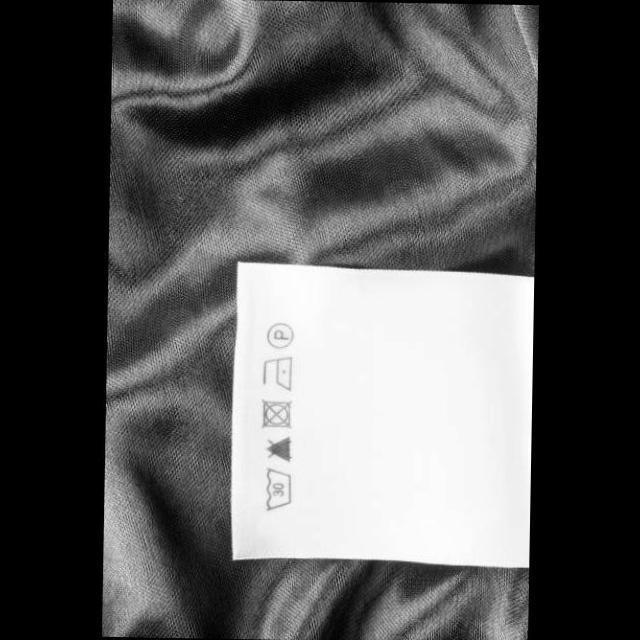30C: (260, 466, 294, 513)
DN_bleach: (264, 432, 294, 464)
DN_tumble_dry: (258, 396, 294, 430)
iron_low: (258, 353, 294, 391)
normal_dry_clean_solvents: (264, 320, 296, 349)
